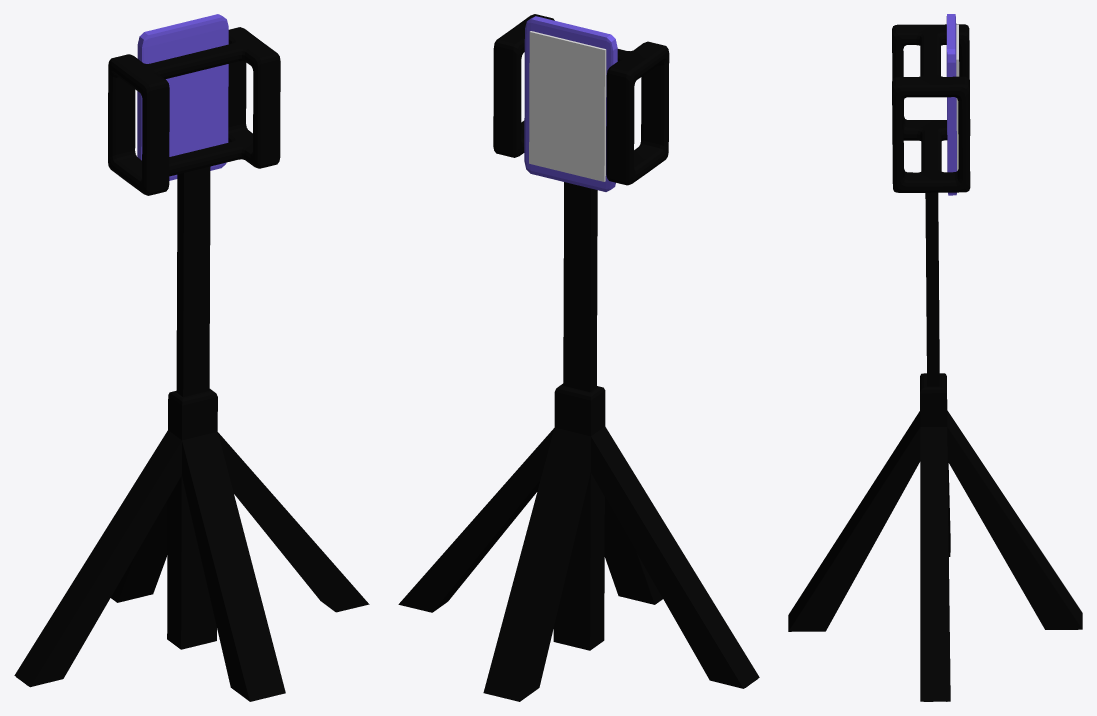
The model's file is scene11_phone.glb.
3 renders of one model, left to right at view 1: azimuth 30°, elevation 25°; view 2: azimuth 150°, elevation 25°; view 3: azimuth 270°, elevation 25°, orthographic. The views are drawn at different scales.
Parts seen in each view (by area): view 1: PHONE.001; view 2: PHONE.001; view 3: PHONE.001.
Part boxes in pixels (<box>): PHONE.001: <box>14,14,369,701</box>; PHONE.001: <box>398,14,759,701</box>; PHONE.001: <box>788,14,1082,701</box>.
Size of the model in its own units: 1.07 by 1.84 by 0.8269.
